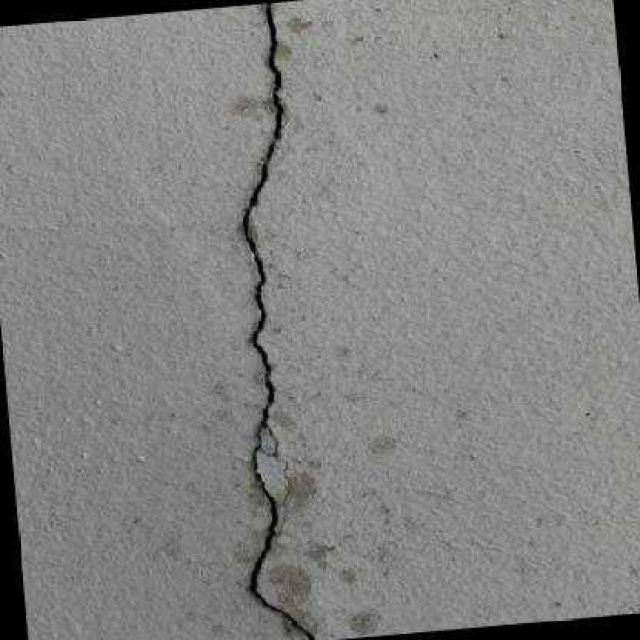D00: (242, 3, 315, 640)
